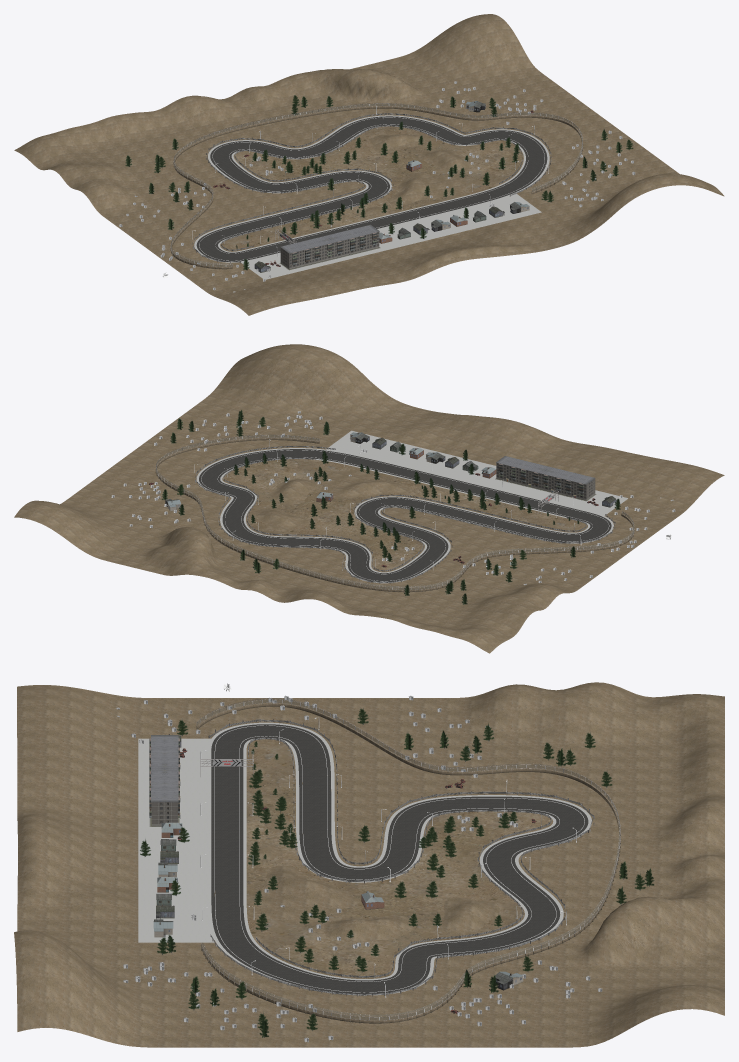
Rendered from race_track_map.glb.
3 views of the same model, one above another, from view 1: azimuth 30°, elevation 25°; view 2: azimuth 150°, elevation 25°; view 3: azimuth 270°, elevation 25° (orthographic). The views are drawn at different scales.
Visible parts, largest first — view 1: Plane_5, road.002_0, Grass_3, FENCE_97, Plane.001_6, building6_building6_0_100, Ograda_surface.Lim_Ograda_0.001_270, Ograda_surface.Lim_Ograda_0_269; view 2: Plane_5, road.002_0, Grass_3, Plane.001_6, FENCE_97, building6_building6_0_100, Ograda_surface.Lim_Ograda_0.001_270, Ograda_surface.Lim_Ograda_0_269; view 3: Plane_5, road.002_0, Grass_3, Plane.001_6, FENCE_97, building6_building6_0_100, Ograda_surface.Lim_Ograda_0.001_270, Ograda_surface.Lim_Ograda_0_269, road.003_2.
Part boxes in pixels (<box>): Plane_5: <box>14,14,724,315</box>; road.002_0: <box>194,115,549,262</box>; Grass_3: <box>220,126,523,251</box>; FENCE_97: <box>170,103,583,269</box>; Plane.001_6: <box>241,193,541,279</box>; building6_building6_0_100: <box>279,224,380,270</box>; Ograda_surface.Lim_Ograda_0.001_270: <box>192,113,551,263</box>; Ograda_surface.Lim_Ograda_0_269: <box>221,125,522,251</box>; Plane_5: <box>14,344,724,653</box>; road.002_0: <box>196,448,613,583</box>; Grass_3: <box>222,459,587,572</box>; Plane.001_6: <box>326,430,627,515</box>; FENCE_97: <box>155,434,634,592</box>; building6_building6_0_100: <box>495,456,596,501</box>; Ograda_surface.Lim_Ograda_0.001_270: <box>195,445,615,583</box>; Ograda_surface.Lim_Ograda_0_269: <box>223,458,587,571</box>; Plane_5: <box>14,682,724,1047</box>; road.002_0: <box>208,722,591,995</box>; Grass_3: <box>246,739,553,978</box>; Plane.001_6: <box>138,738,214,942</box>; FENCE_97: <box>196,698,620,1023</box>; building6_building6_0_100: <box>149,735,180,826</box>; Ograda_surface.Lim_Ograda_0.001_270: <box>208,719,594,996</box>; Ograda_surface.Lim_Ograda_0_269: <box>248,737,551,978</box>; road.003_2: <box>214,725,584,992</box>.
Size of the model in its own units: 96.91 by 7.86 by 80.59.
22 materials, 17 textured.
